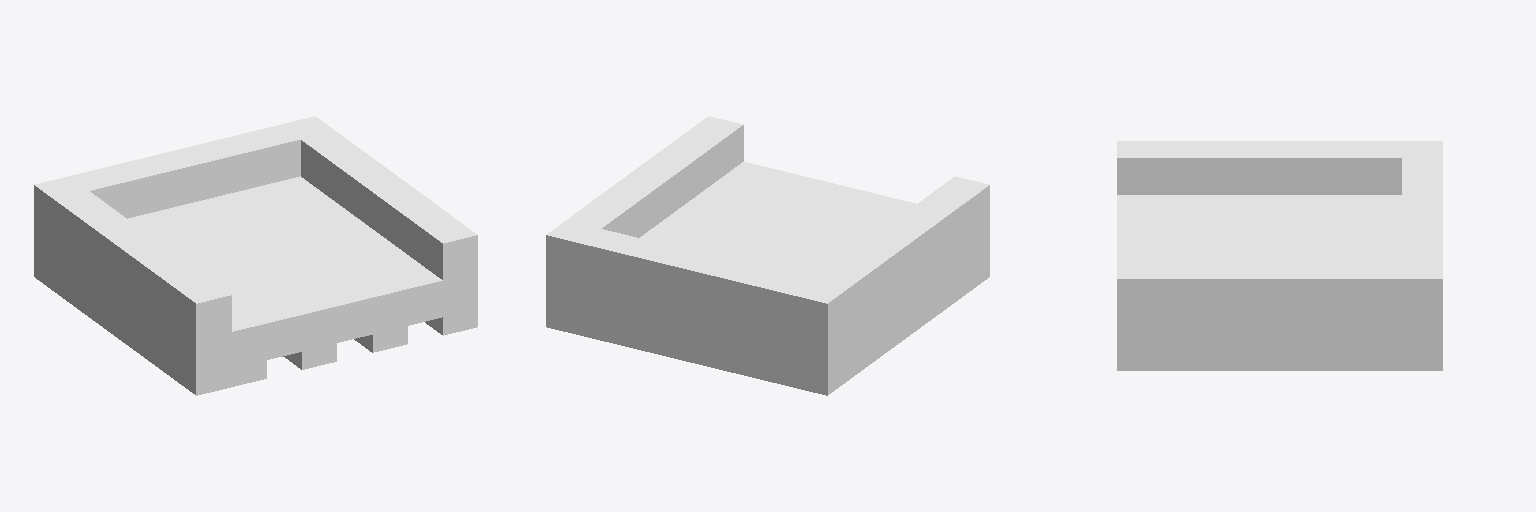
Rendered from CeilingBitsFront1.obj.
3 views of the same model, side by side, from view 1: azimuth 30°, elevation 25°; view 2: azimuth 150°, elevation 25°; view 3: azimuth 270°, elevation 25° (orthographic).
Parts seen in each view (by area): view 1: object 1; view 2: object 1; view 3: object 1.
Part boxes in pixels (x1,y1,x2,y2): object 1: (34, 116, 477, 395); object 1: (546, 116, 989, 395); object 1: (1117, 141, 1442, 370).
Bounding box in the file's own units: 1.6 × 0.5 × 1.6.